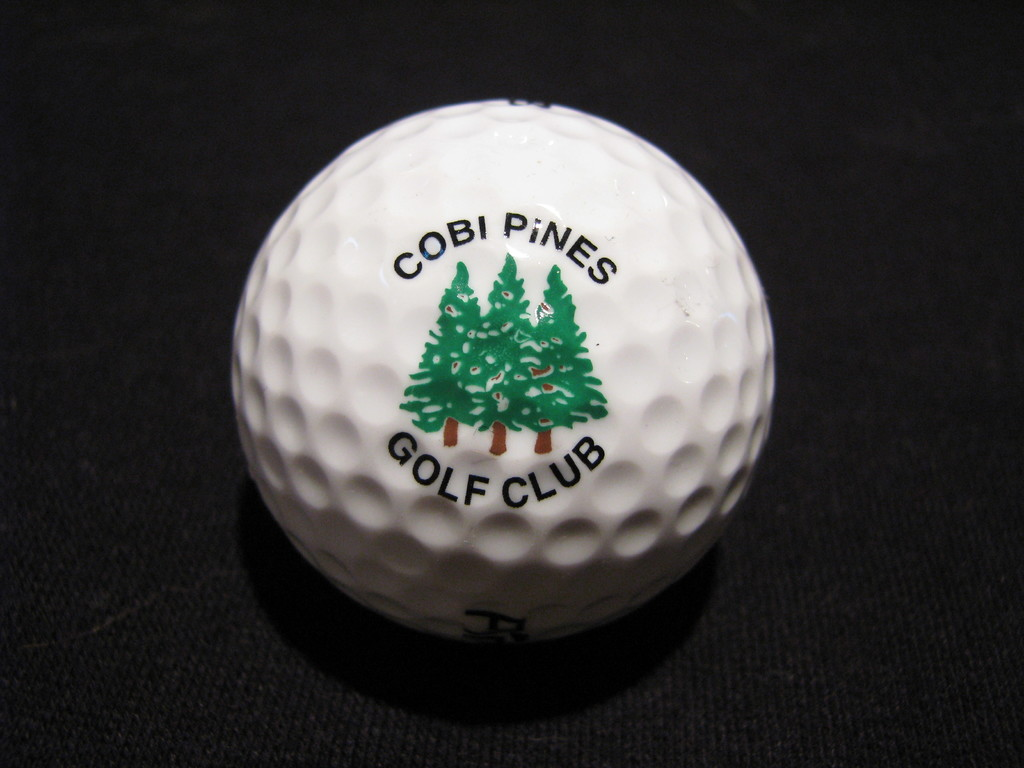Ball: (232, 97, 775, 644)
